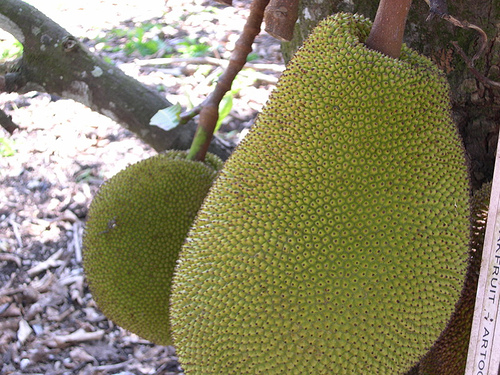jackfruit: (170, 0, 473, 374), (82, 145, 225, 347)
